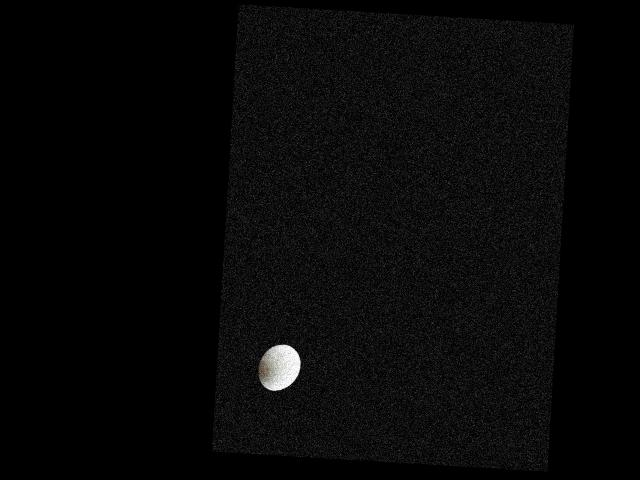egg: (257, 343, 301, 392)
